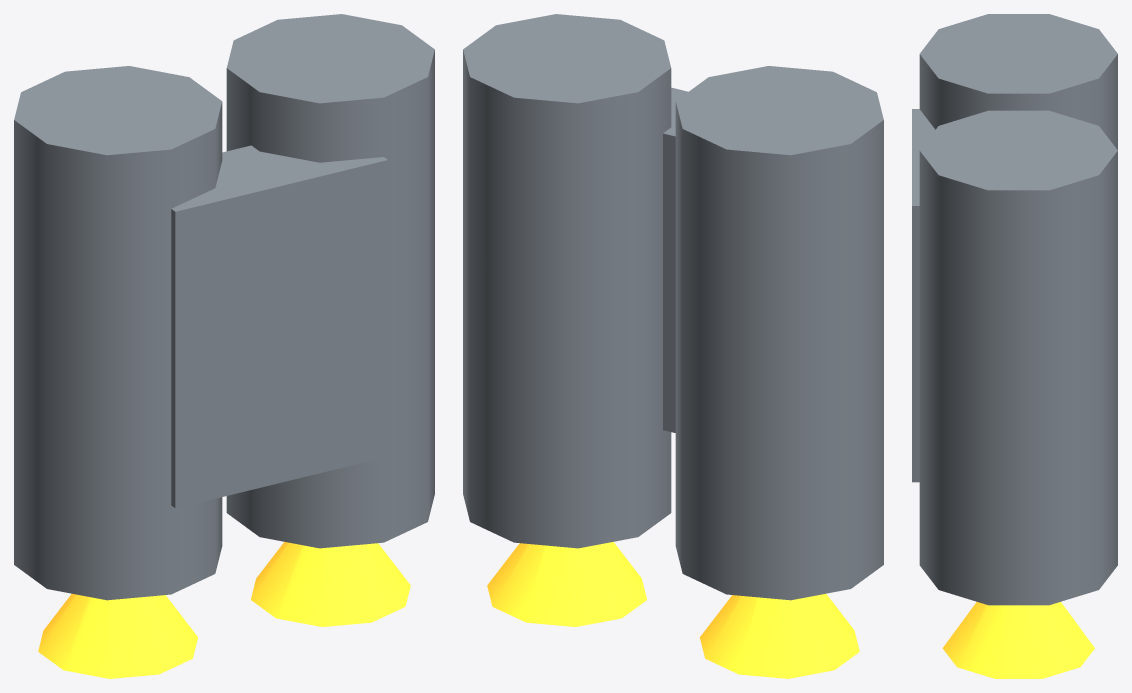
File: acc_jetpack.glb
3 renders of one model, left to right at view 1: azimuth 30°, elevation 25°; view 2: azimuth 150°, elevation 25°; view 3: azimuth 270°, elevation 25°, orthographic. The views are drawn at different scales.
Visible parts, largest first — view 1: acc_jetpack; view 2: acc_jetpack; view 3: acc_jetpack.
Boxes of the visible parts, left/top/right/bottom form: acc_jetpack: left=14, top=14, right=434, bottom=678; acc_jetpack: left=463, top=14, right=883, bottom=678; acc_jetpack: left=912, top=14, right=1117, bottom=678.
Bounding box in the file's own units: 0.5473 × 0.72 × 0.27.
